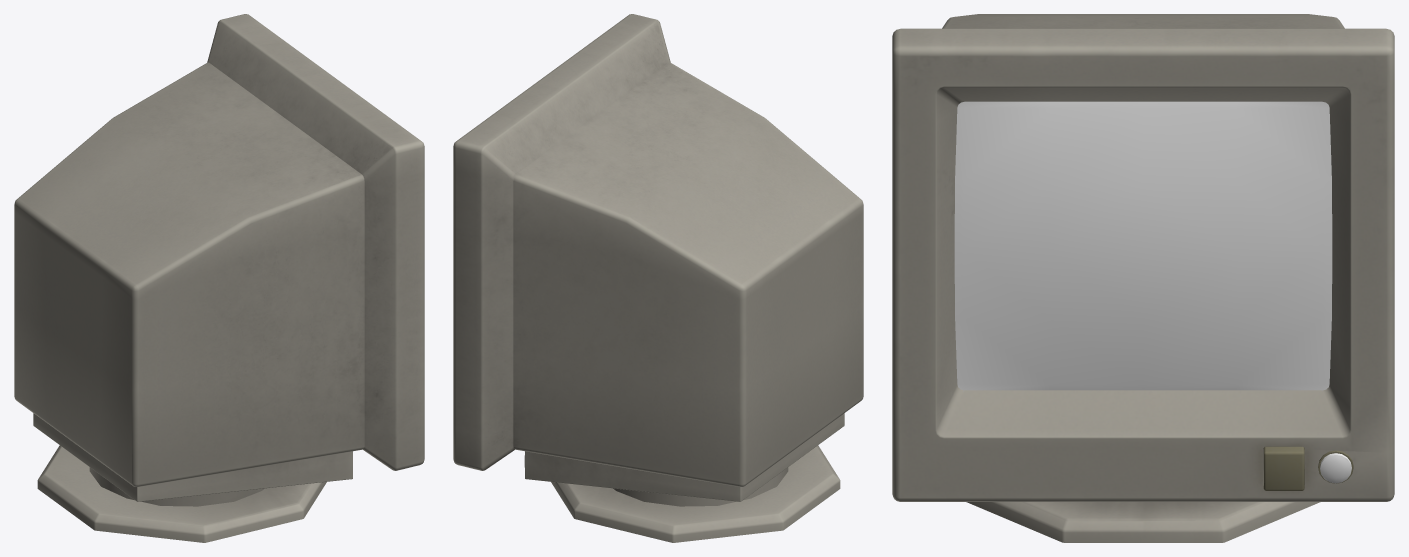
File: M_computer (2).fbx
3 views of the same model, side by side, from view 1: azimuth 30°, elevation 25°; view 2: azimuth 150°, elevation 25°; view 3: azimuth 270°, elevation 25° (orthographic). The views are drawn at different scales.
Visible parts, largest first — view 1: Computer; view 2: Computer; view 3: Computer, Glass, Button, Indicator.
Boxes of the visible parts, x1,y1,x2,y2 form: Computer: (14,14,424,542); Computer: (453,14,863,542); Computer: (892,14,1394,542); Glass: (954,101,1332,390); Button: (1263,446,1304,490); Indicator: (1320,453,1351,483).
Bounding box in the file's own units: 212 × 267 × 235.
